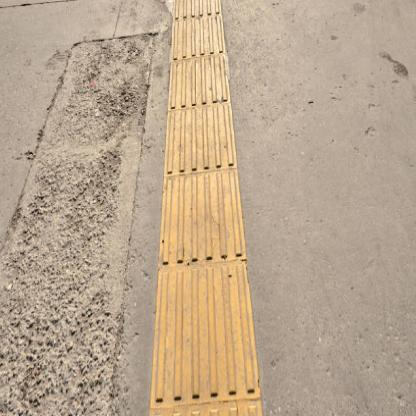podotacti: (148, 0, 282, 416)
